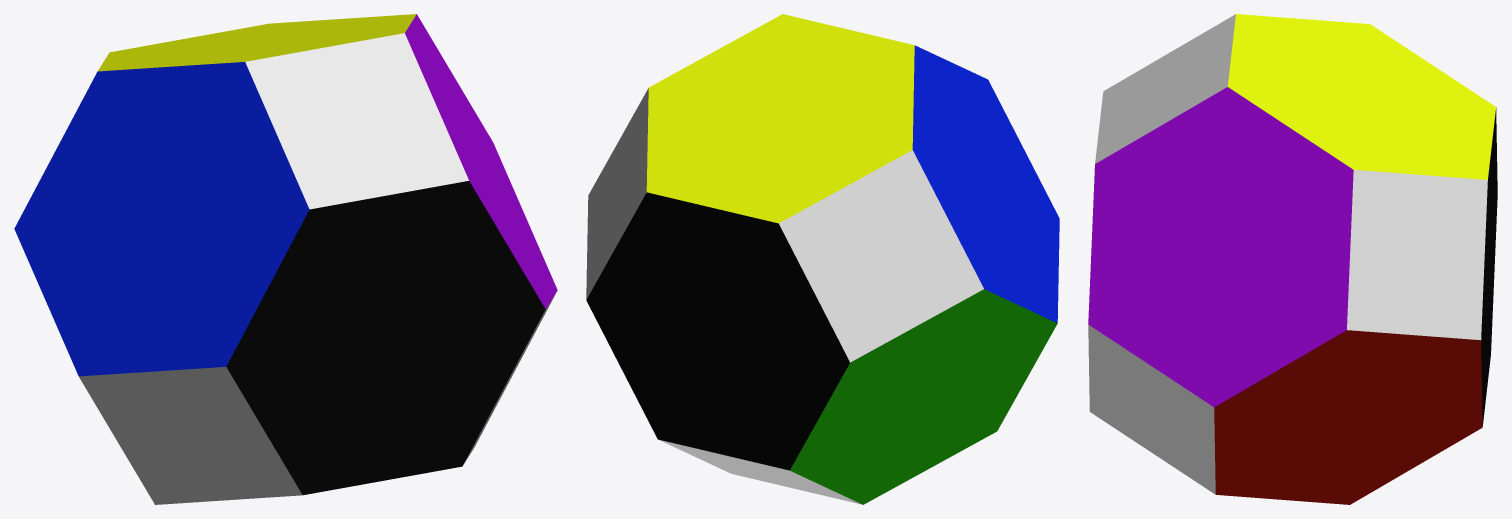
File: octahedre.glb
3 views of the same model, side by side, from view 1: azimuth 30°, elevation 25°; view 2: azimuth 150°, elevation 25°; view 3: azimuth 270°, elevation 25° (orthographic). The views are drawn at different scales.
Visible parts, largest first — view 1: Object_2; view 2: Object_2; view 3: Object_2.
Part boxes in pixels (bbox=[...]): Object_2: bbox=[14, 14, 557, 504]; Object_2: bbox=[586, 14, 1059, 504]; Object_2: bbox=[1088, 14, 1497, 504].
Size of the model in its own units: 3.54 by 3.4 by 2.96.
